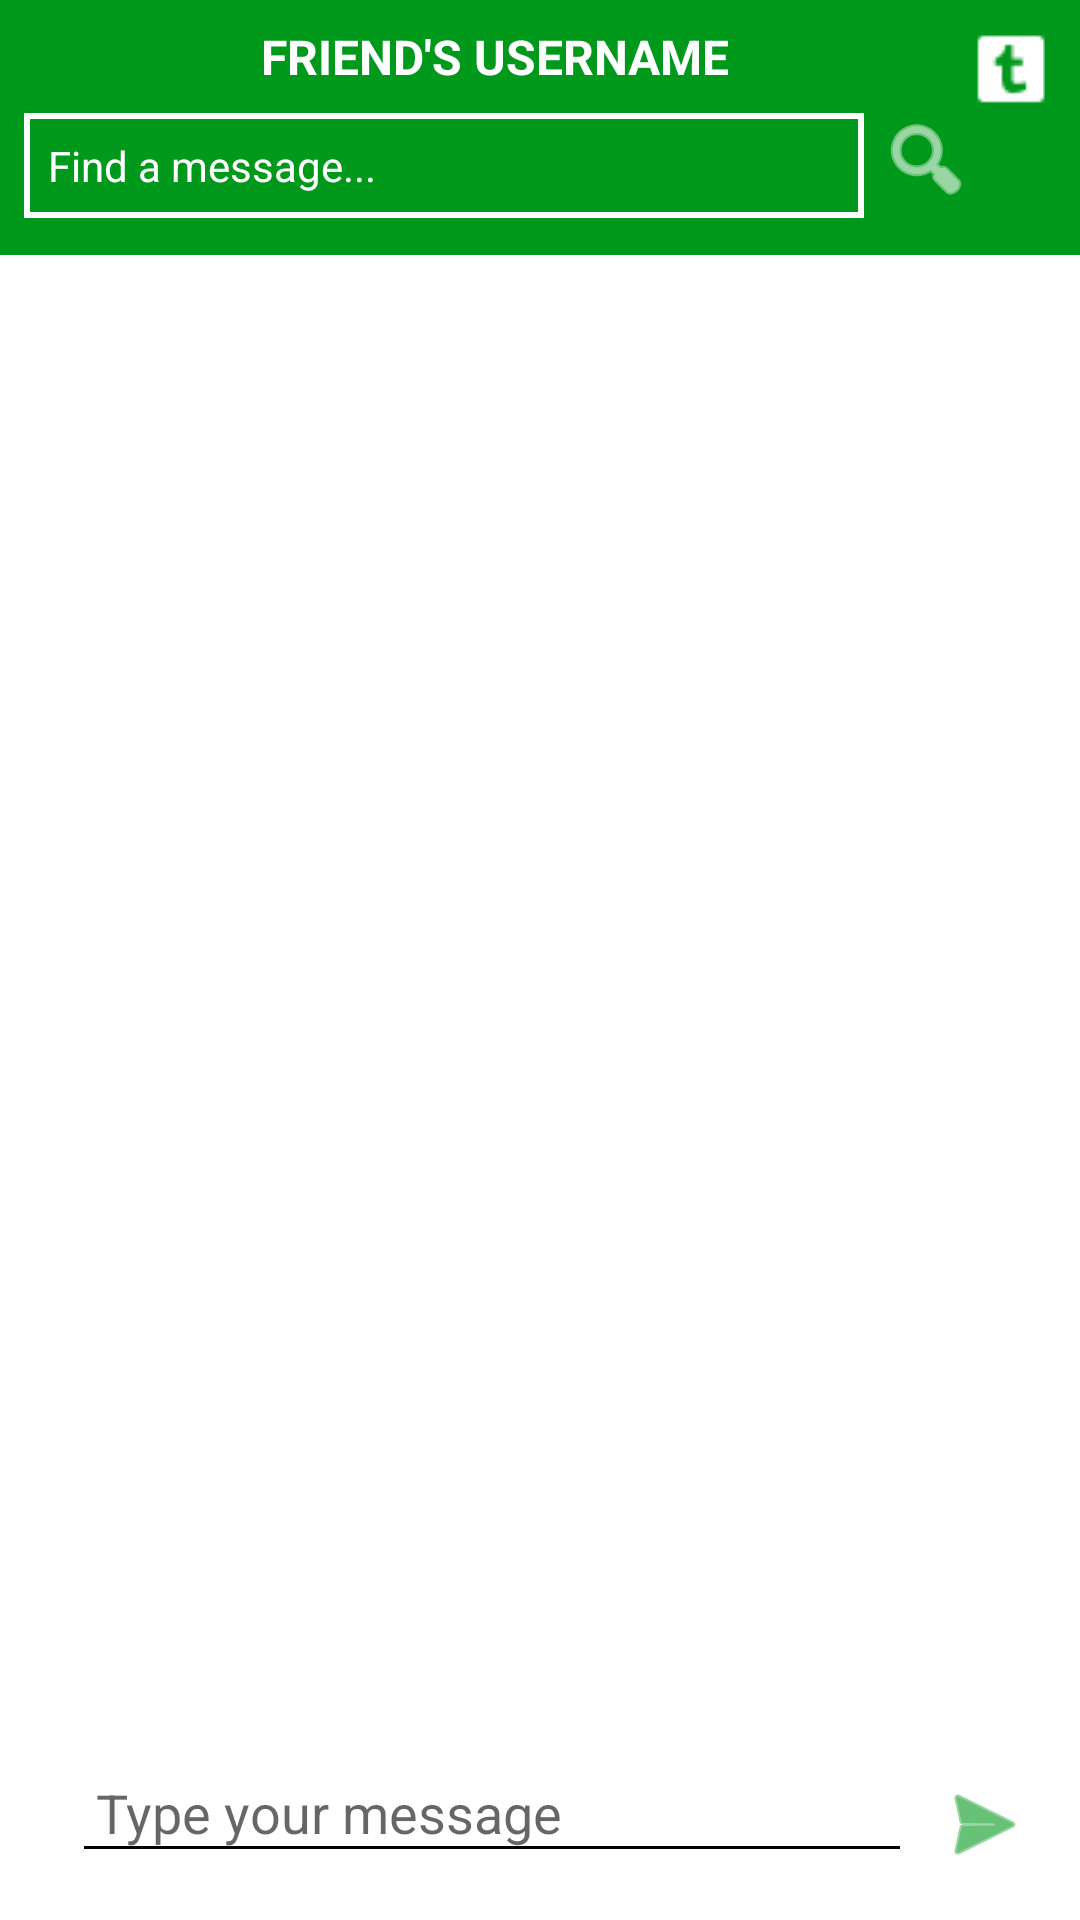

Icons on this 1080w x 1920h Android screen, each with the point to tap as [x,y]:
send: [985,1824]
